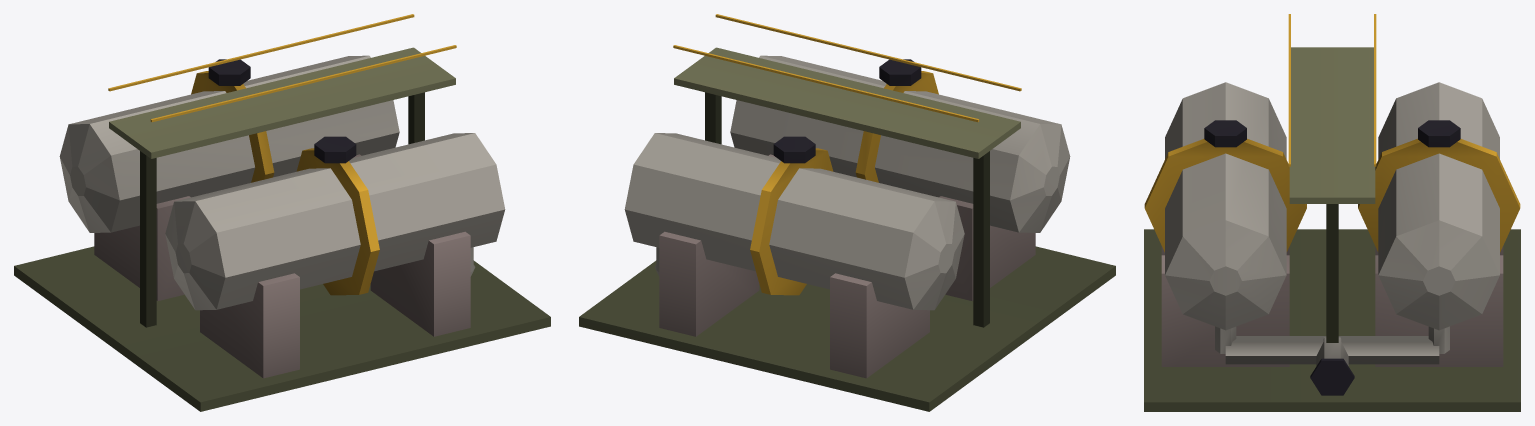
The picture shows the model from 3 angles, left to right: view 1: azimuth 30°, elevation 25°; view 2: azimuth 150°, elevation 25°; view 3: azimuth 270°, elevation 25°; orthographic projection.
Parts seen in each view (by area): view 1: body_pal_picketWhite; view 2: body_pal_picketWhite; view 3: body_pal_picketWhite.
Part boxes in pixels (x1,y1,x2,y2): body_pal_picketWhite: [14, 14, 550, 411]; body_pal_picketWhite: [579, 14, 1115, 411]; body_pal_picketWhite: [1144, 14, 1520, 411].
Bounding box in the file's own units: 11.83 × 7.34 × 10.6.
